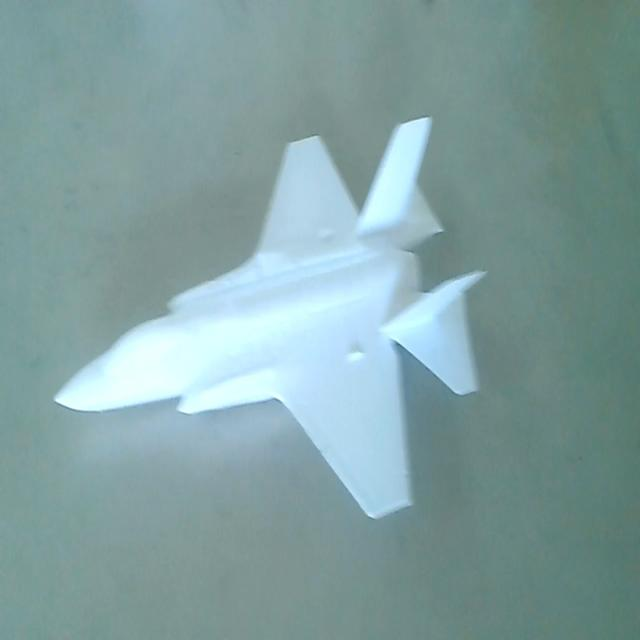Jet: (52, 110, 490, 542)
